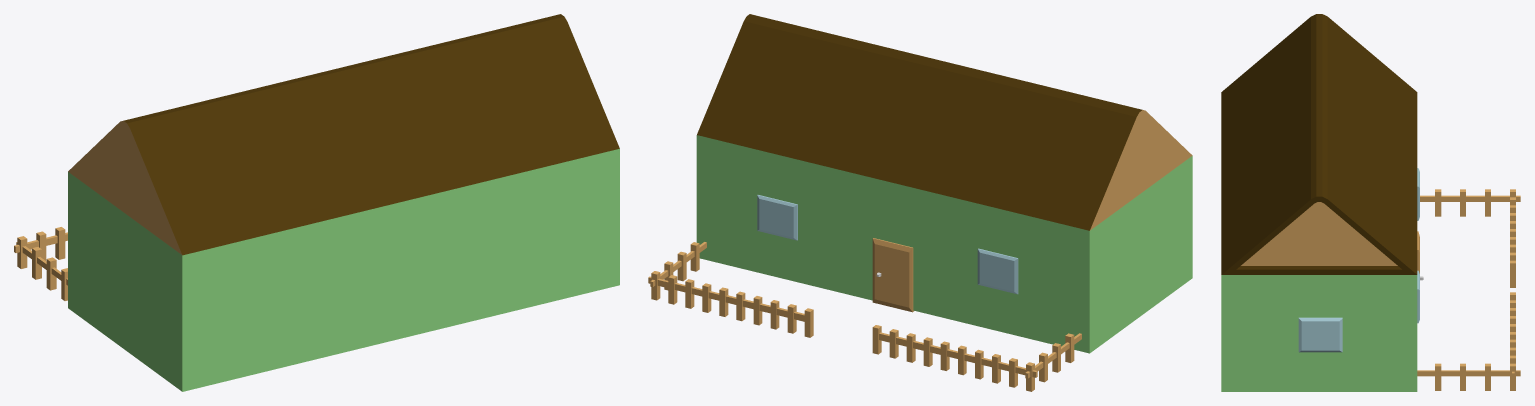
File: house.fbx
3 views of the same model, side by side, from view 1: azimuth 30°, elevation 25°; view 2: azimuth 150°, elevation 25°; view 3: azimuth 270°, elevation 25° (orthographic). The views are drawn at different scales.
Parts seen in each view (by area): view 1: haus; view 2: haus; view 3: haus.
Part boxes in pixels (x1=…): haus: x1=14, y1=14, x2=619, y2=391; haus: x1=648, y1=14, x2=1192, y2=391; haus: x1=1221, y1=14, x2=1520, y2=391.
Bounding box in the file's own units: 444 × 222 × 305.
